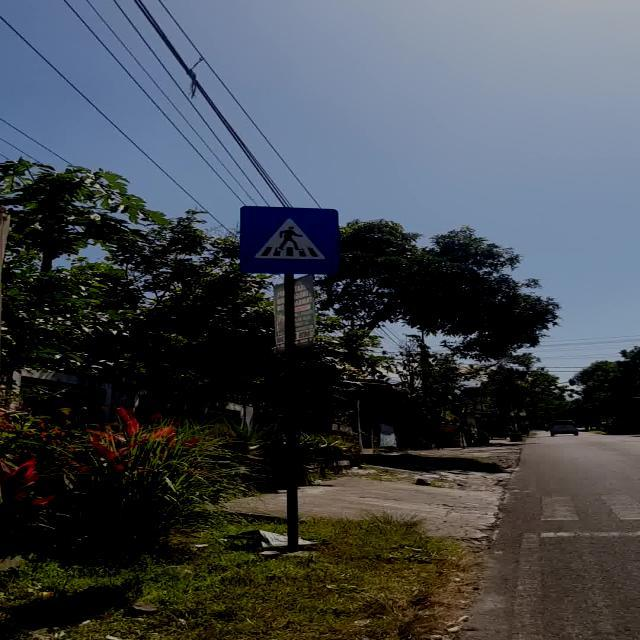Perintah Jalur Penyebrangan: (239, 206, 338, 274)
